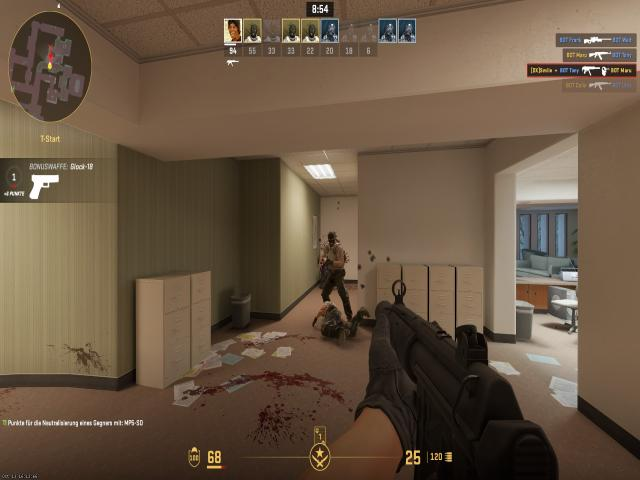Dead: (316, 302, 355, 350), (318, 272, 325, 285)
T: (327, 231, 342, 299)
T-Head: (328, 232, 336, 244)
